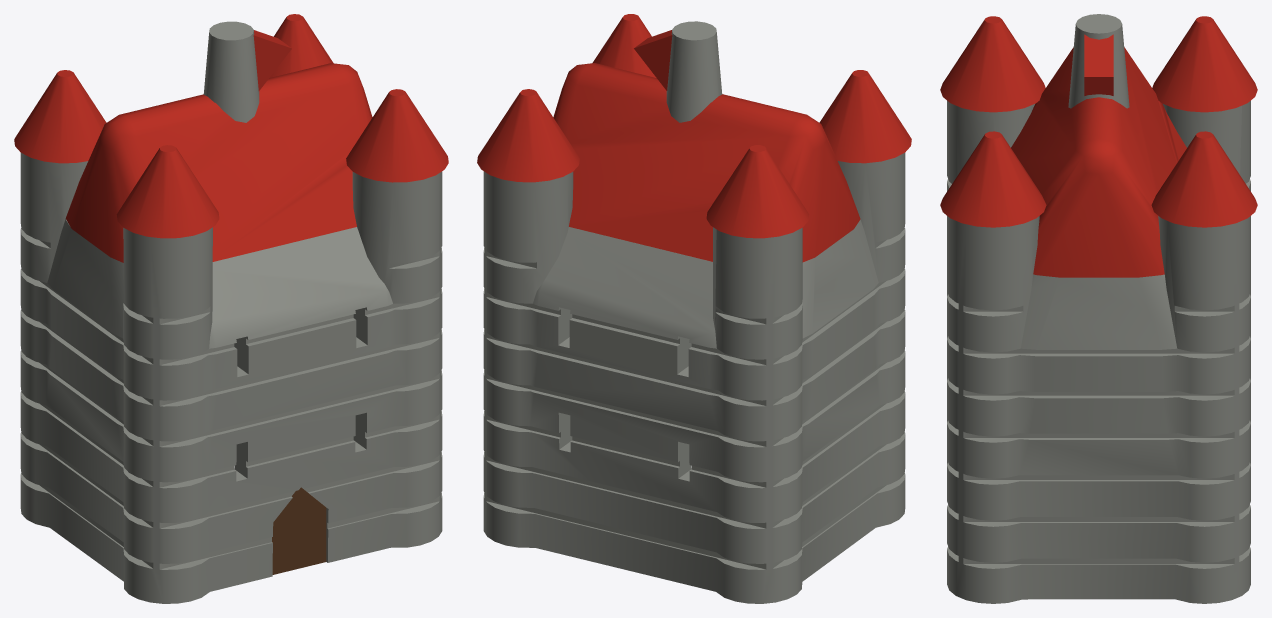
File: festung_rot.glb
3 renders of one model, left to right at view 1: azimuth 30°, elevation 25°; view 2: azimuth 150°, elevation 25°; view 3: azimuth 270°, elevation 25°, orthographic. The views are drawn at different scales.
Parts seen in each view (by area): view 1: festung_rot; view 2: festung_rot; view 3: festung_rot.
Part boxes in pixels (box(x1,y1,x2,y2)): festung_rot: box(14, 14, 448, 603); festung_rot: box(477, 14, 911, 603); festung_rot: box(940, 14, 1257, 603).
Size of the model in its own units: 19.6 by 28.7 by 16.43.
